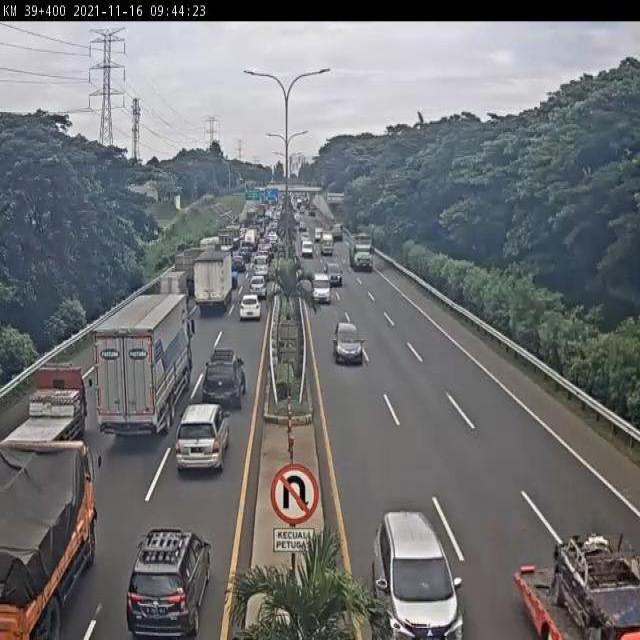car: (371, 509, 472, 640), (125, 528, 214, 640), (174, 403, 233, 473), (201, 348, 248, 411), (332, 320, 365, 365), (238, 292, 261, 320), (312, 274, 330, 306), (325, 260, 344, 287), (250, 274, 268, 298)
small truck: (0, 363, 89, 476), (162, 270, 189, 310)
truck-l-: (92, 292, 194, 439), (350, 230, 375, 270)
truck-m-: (0, 434, 104, 640), (193, 248, 235, 313)
